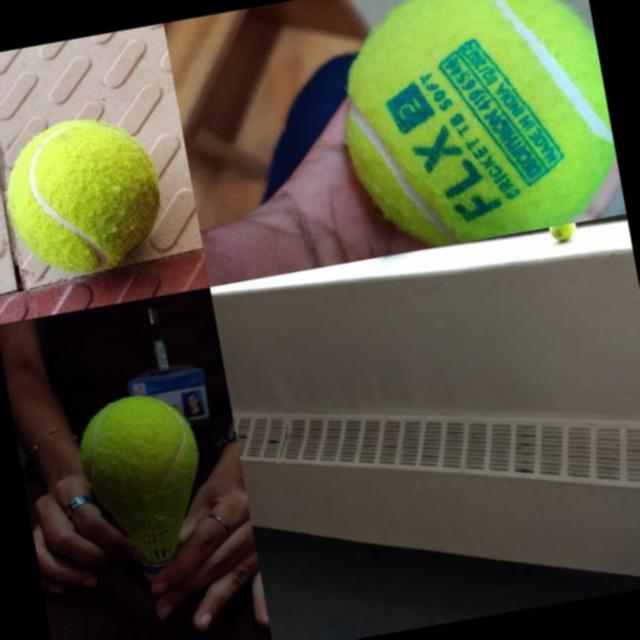tennis-ball: (321, 0, 625, 258), (0, 107, 171, 281), (70, 388, 200, 492), (547, 222, 578, 244)
